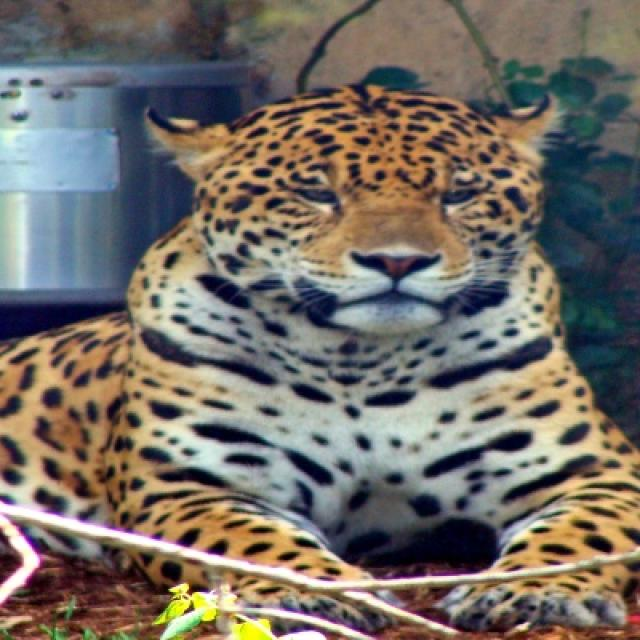Jaguar: (0, 70, 638, 638)
